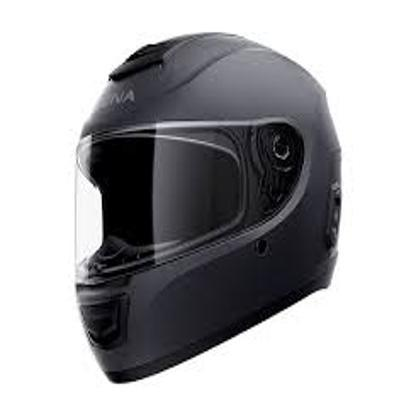not trash: (73, 27, 345, 387)
